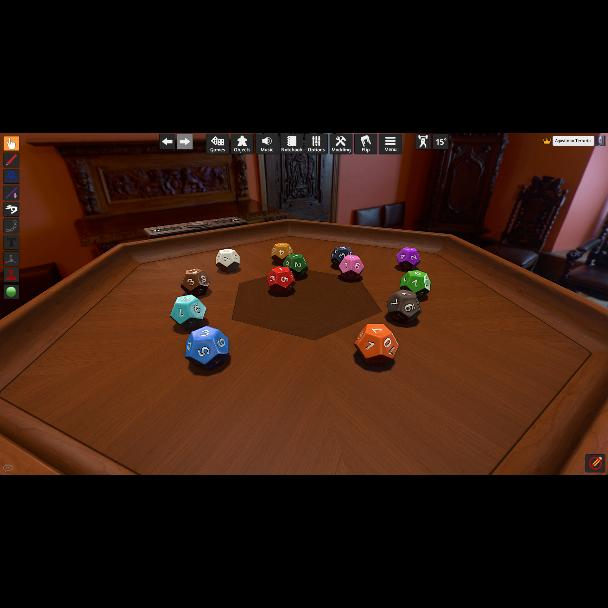d12: (186, 326, 230, 370), (356, 324, 396, 366), (171, 296, 207, 330), (387, 290, 422, 324), (399, 270, 431, 298), (180, 269, 210, 297), (267, 266, 295, 296), (338, 254, 363, 280), (215, 248, 241, 272), (396, 247, 420, 271), (285, 254, 309, 278), (271, 242, 293, 264), (332, 246, 352, 266)
